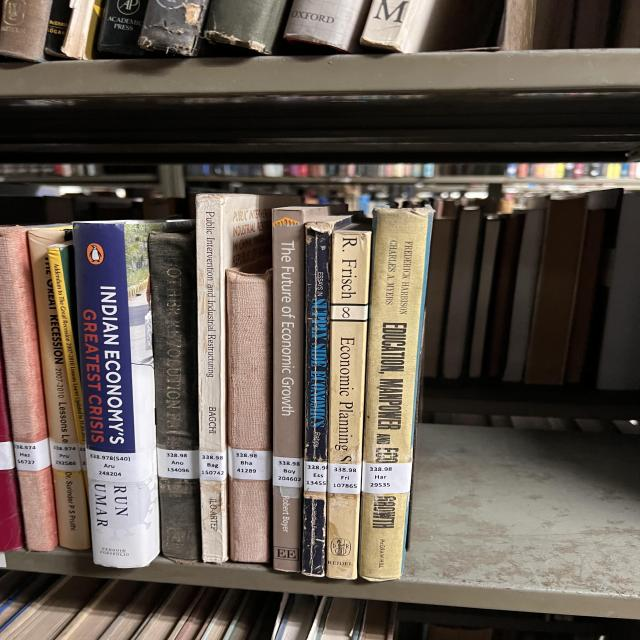Book: (73, 220, 192, 569), (195, 194, 298, 564), (360, 209, 433, 581), (272, 206, 345, 572), (28, 226, 90, 549), (0, 226, 57, 551), (302, 215, 353, 576), (148, 231, 200, 562), (327, 225, 372, 579), (227, 256, 272, 562)
Label: (87, 449, 157, 482), (362, 462, 412, 494), (228, 448, 272, 480), (157, 448, 200, 479), (13, 439, 50, 471), (328, 462, 362, 494), (50, 440, 82, 471), (272, 456, 303, 488), (200, 451, 227, 481), (303, 461, 327, 492)
